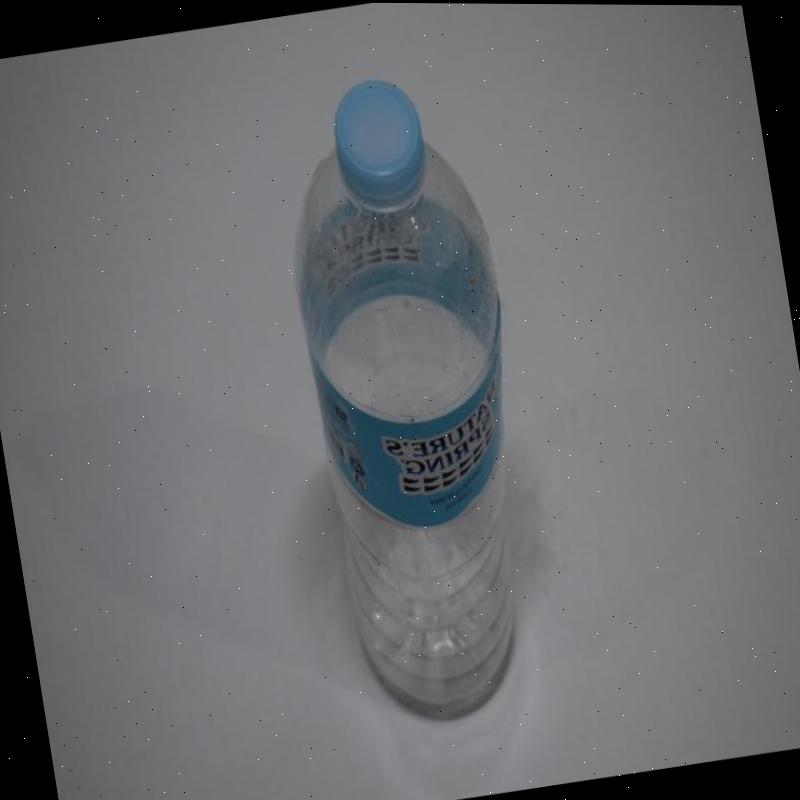botella: (265, 64, 562, 727)
